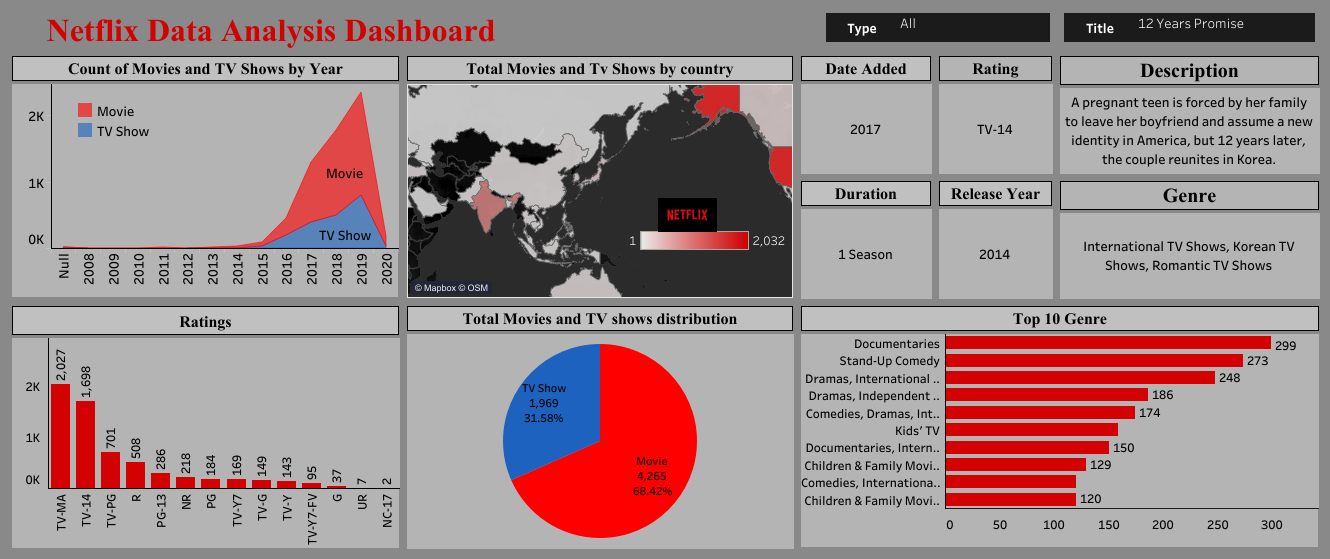

What the dashboard file says about the page in this screenshot:
{"tool":"tableau","page":{"name":"Netflix Dashboard","canvas":[1000,1000],"units":"permille","ordinal":0},"visuals":[{"type":"title","box":[6,14.3,987.9,78.6]},{"type":"filter","title":"Description","param":"[federated.0ontvfc0yrpzrz194r7mr099i55z].[none:type:nk]","box":[620.9,23.2,167.7,51.8]},{"type":"filter","title":"Description","param":"[federated.0ontvfc0yrpzrz194r7mr099i55z].[none:title:nk]","box":[799.1,23.2,188.8,51.8]},{"type":"worksheet","title":"Total Movies & Tv shows by year","mark":"Area","rows":["show_id"],"cols":["date_added"],"box":[6,92.9,296.5,446.4]},{"type":"worksheet","title":"Total Movies and Tv Shows by country","mark":"Multipolygon","box":[302.5,92.9,296.5,446.4]},{"type":"worksheet","title":"Date added","mark":"Automatic","box":[599,92.9,103.4,223.2]},{"type":"worksheet","title":"Rating","mark":"Automatic","box":[702.3,92.9,91.1,223.2]},{"type":"worksheet","title":"Description","mark":"Automatic","box":[793.4,92.9,200.6,223.2]},{"type":"legend","title":"Total Movies & Tv shows by year","param":"[federated.0ontvfc0yrpzrz194r7mr099i55z].[none:type:nk]","box":[53.6,171.4,128.2,132.1]},{"type":"worksheet","title":"Duration","mark":"Automatic","box":[599,316.1,103.4,223.2]},{"type":"worksheet","title":"Release year","mark":"Automatic","box":[702.3,316.1,91.1,223.2]},{"type":"worksheet","title":"Genre","mark":"Automatic","box":[793.4,316.1,200.6,223.2]},{"type":"image","param":"Image/Netflix logo.png","box":[456.5,353.6,120.3,60.7]},{"type":"legend","title":"Total Movies and Tv Shows by country","param":"[federated.0ontvfc0yrpzrz194r7mr099i55z].[cnt:show_id:qk]","box":[469.7,405.4,123.8,46.4]},{"type":"worksheet","title":"Ratings by count of shows and movies","mark":"Automatic","rows":["show_id"],"cols":["rating"],"box":[6,539.3,296.5,446.4]},{"type":"worksheet","title":"Movies and Tv shows Distribution","mark":"Pie","box":[302.5,539.3,296.5,446.4]},{"type":"worksheet","title":"Top 10 Genre","mark":"Automatic","rows":["listed_in"],"cols":["show_id"],"box":[599,539.3,395,446.4]}]}

Visuals, with their boxes on the dashboard's canvas, which has no fixed pixel size, in thousandths of its width and height (x1, y1, x2, y2). These are canvas units, not pixel positions in the 1330x559 screenshot, which may show the page scaled, cropped or inside an application window:
title: bbox(6, 14, 994, 93)
"Description" filter: bbox(621, 23, 789, 75)
"Description" filter: bbox(799, 23, 988, 75)
"Total Movies & Tv shows by year" worksheet (Area marks): bbox(6, 93, 302, 539)
"Total Movies and Tv Shows by country" worksheet (Multipolygon marks): bbox(302, 93, 599, 539)
"Date added" worksheet: bbox(599, 93, 702, 316)
"Rating" worksheet: bbox(702, 93, 793, 316)
"Description" worksheet: bbox(793, 93, 994, 316)
"Total Movies & Tv shows by year" legend: bbox(54, 171, 182, 304)
"Duration" worksheet: bbox(599, 316, 702, 539)
"Release year" worksheet: bbox(702, 316, 793, 539)
"Genre" worksheet: bbox(793, 316, 994, 539)
image: bbox(456, 354, 577, 414)
"Total Movies and Tv Shows by country" legend: bbox(470, 405, 594, 452)
"Ratings by count of shows and movies" worksheet: bbox(6, 539, 302, 986)
"Movies and Tv shows Distribution" worksheet (Pie marks): bbox(302, 539, 599, 986)
"Top 10 Genre" worksheet: bbox(599, 539, 994, 986)
